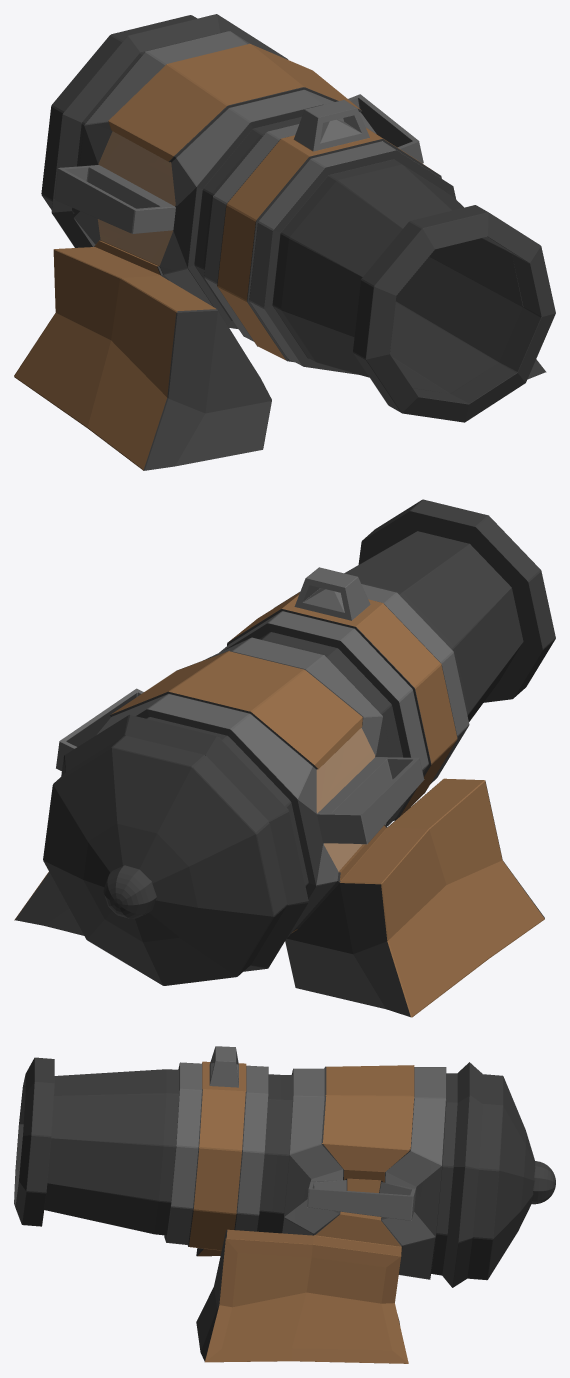
Rendered from cannon_001.glb.
3 renders of one model, top to bottom at view 1: azimuth 30°, elevation 25°; view 2: azimuth 150°, elevation 25°; view 3: azimuth 270°, elevation 25°, orthographic. The views are drawn at different scales.
Visible parts, largest first — view 1: cannon.001; view 2: cannon.001; view 3: cannon.001.
Part boxes in pixels (x1=…): cannon.001: x1=14, y1=14, x2=555, y2=470; cannon.001: x1=14, y1=499, x2=555, y2=1017; cannon.001: x1=14, y1=1046, x2=555, y2=1363.
Bounding box in the file's own units: 1.14 × 0.8409 × 1.73.
Materials: 1 (1 with a texture image).
